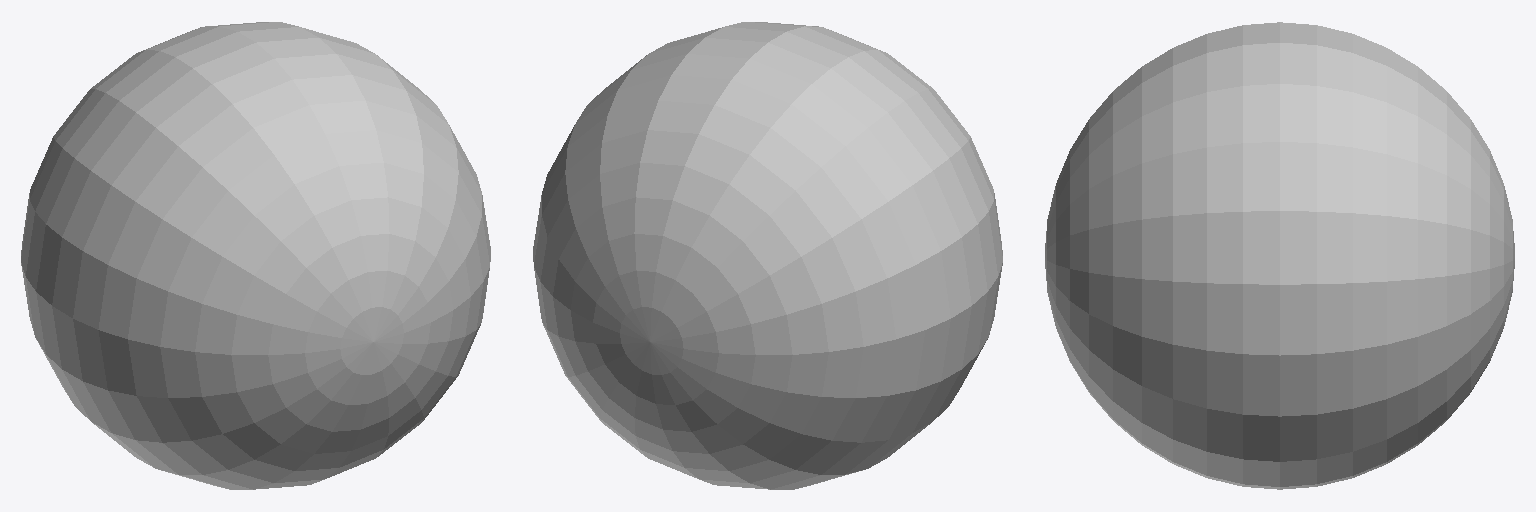
Rendered from EarthMain.obj.
3 views of the same model, side by side, from view 1: azimuth 30°, elevation 25°; view 2: azimuth 150°, elevation 25°; view 3: azimuth 270°, elevation 25° (orthographic).
Size of the model in its own units: 11.19 by 11.19 by 11.19.